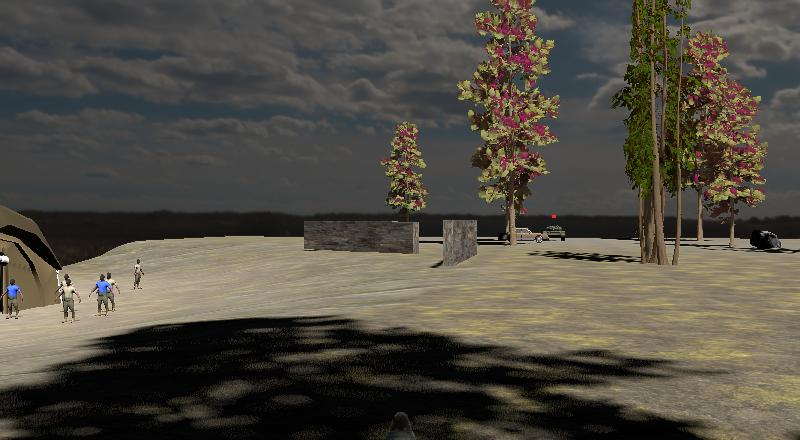Human: (56, 278, 83, 325), (89, 273, 115, 318), (1, 278, 25, 321), (104, 271, 122, 309), (131, 258, 146, 291)
Tank: (535, 223, 567, 243)
car: (501, 225, 546, 244)
